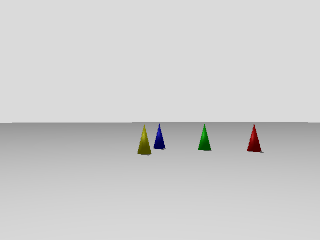blue: (152, 122, 165, 150)
green: (198, 123, 212, 152)
red: (245, 123, 262, 153)
yellow: (137, 125, 152, 157)
